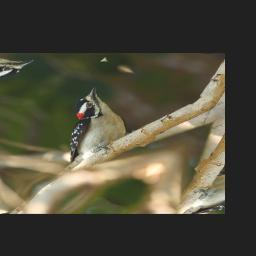Woodpecker: (4, 85, 159, 185)
